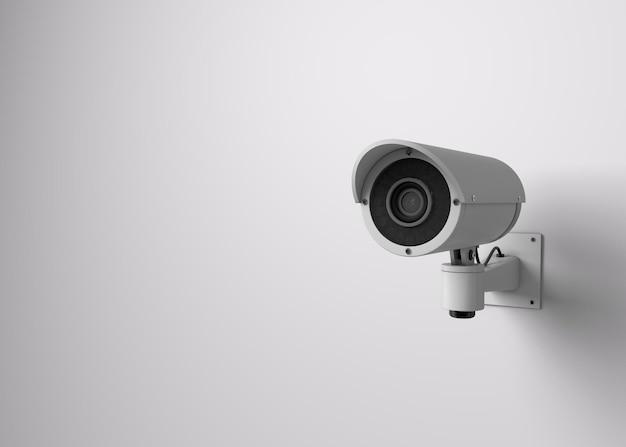camera: (327, 112, 553, 359)
